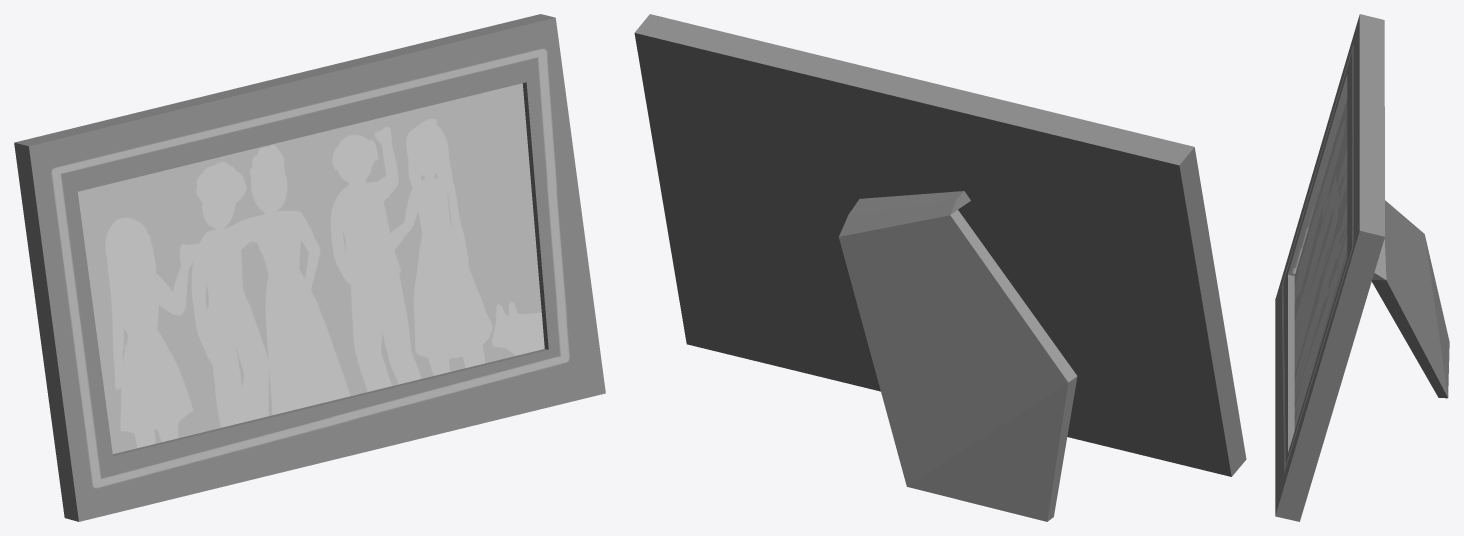
The model's file is Quadro + Fotografia.FBX.
The picture shows the model from 3 angles, left to right: view 1: azimuth 30°, elevation 25°; view 2: azimuth 150°, elevation 25°; view 3: azimuth 270°, elevation 25°; orthographic projection. The views are drawn at different scales.
Parts seen in each view (by area): view 1: Box002; view 2: Box002; view 3: Box002.
Part boxes in pixels (left/top/right/bottom): Box002: left=14, top=14, right=605, bottom=521; Box002: left=634, top=14, right=1246, bottom=521; Box002: left=1275, top=14, right=1449, bottom=521.
Size of the model in its own units: 159 by 99.69 by 54.09.
